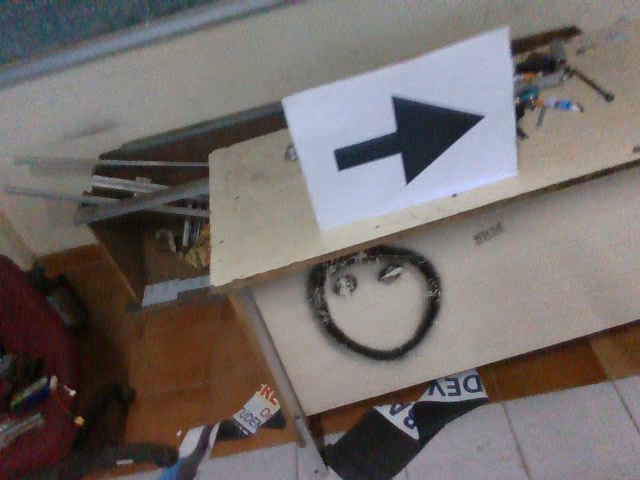Right: (325, 94, 488, 188)
